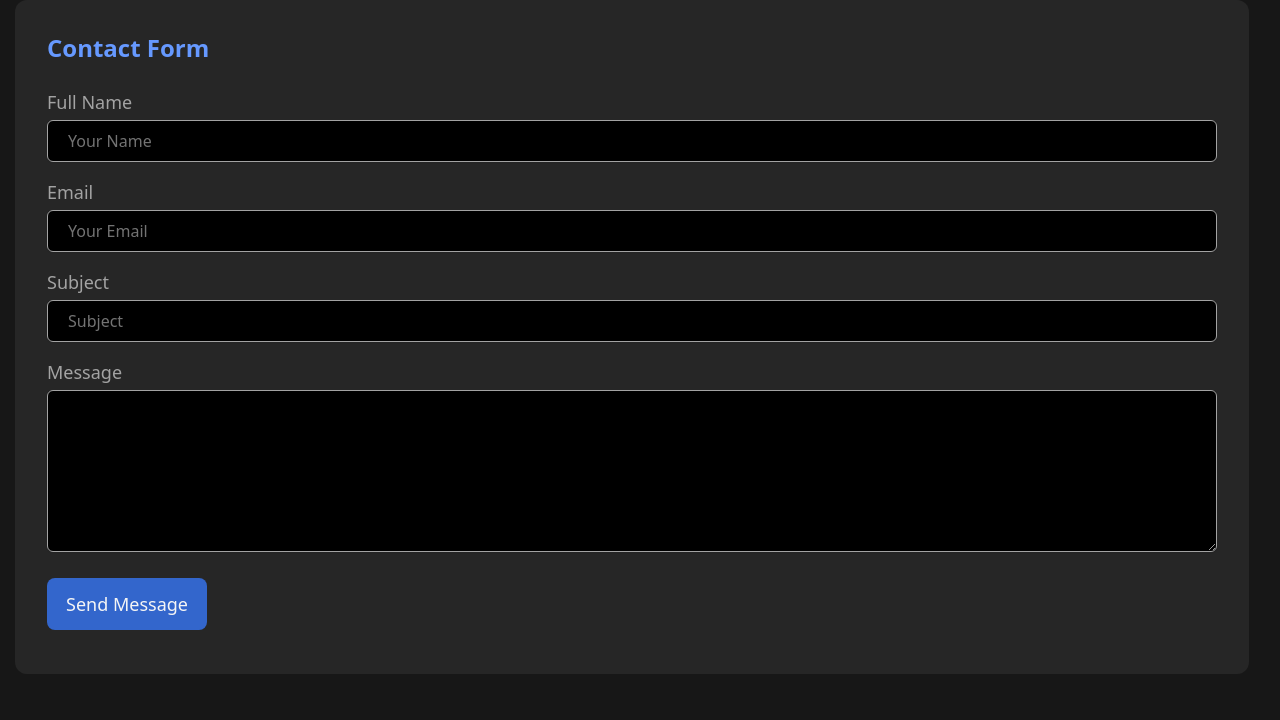
Scenario: ContactForm › shows success message and resets form on successful submission
Type "Alice" into the field labelled "Full Name" at (632, 141), box [47, 120, 1217, 162]
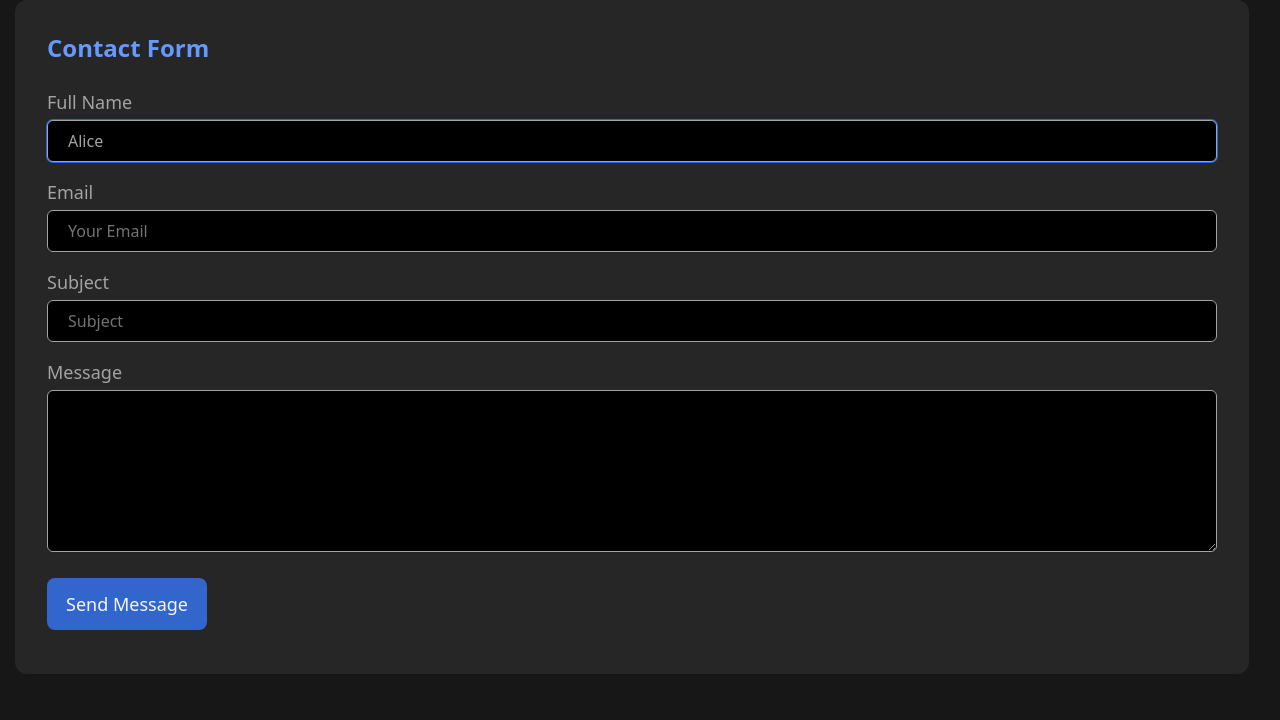
Type "alice@example.com" into the field labelled "Email" at (632, 231), box [47, 210, 1217, 252]
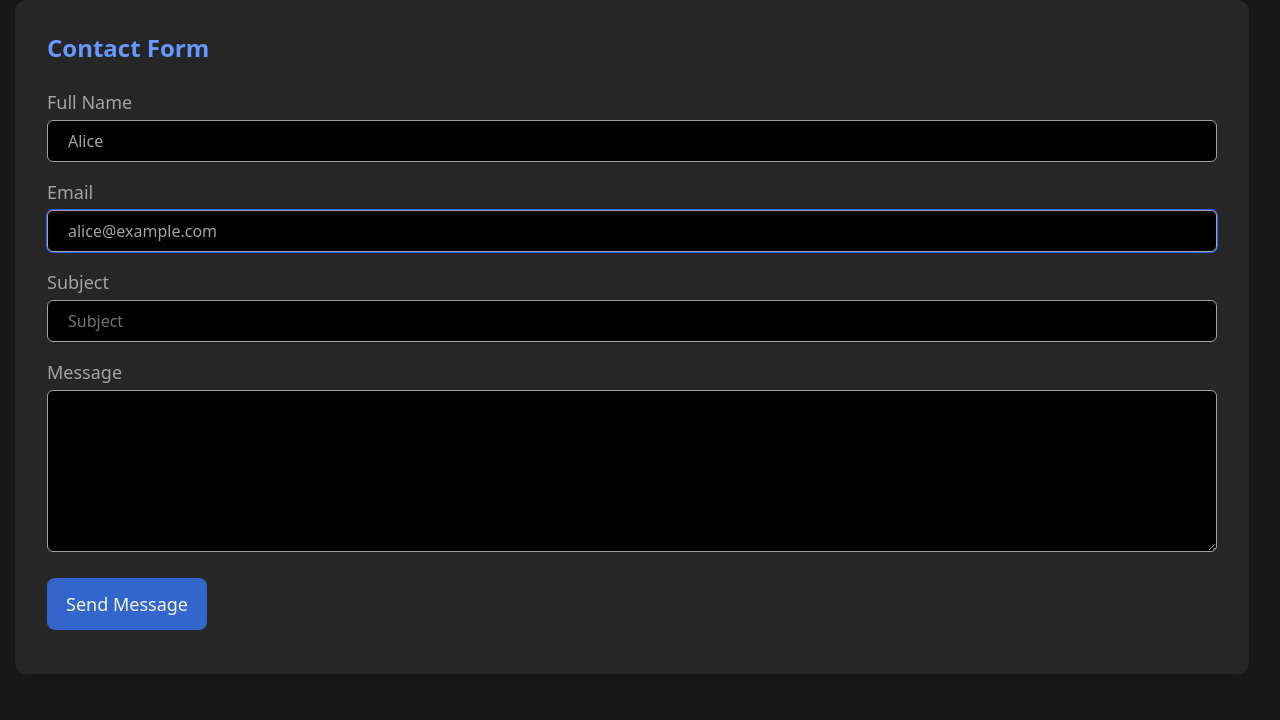
Type "Hi" into the field labelled "Subject" at (632, 321), box [47, 300, 1217, 342]
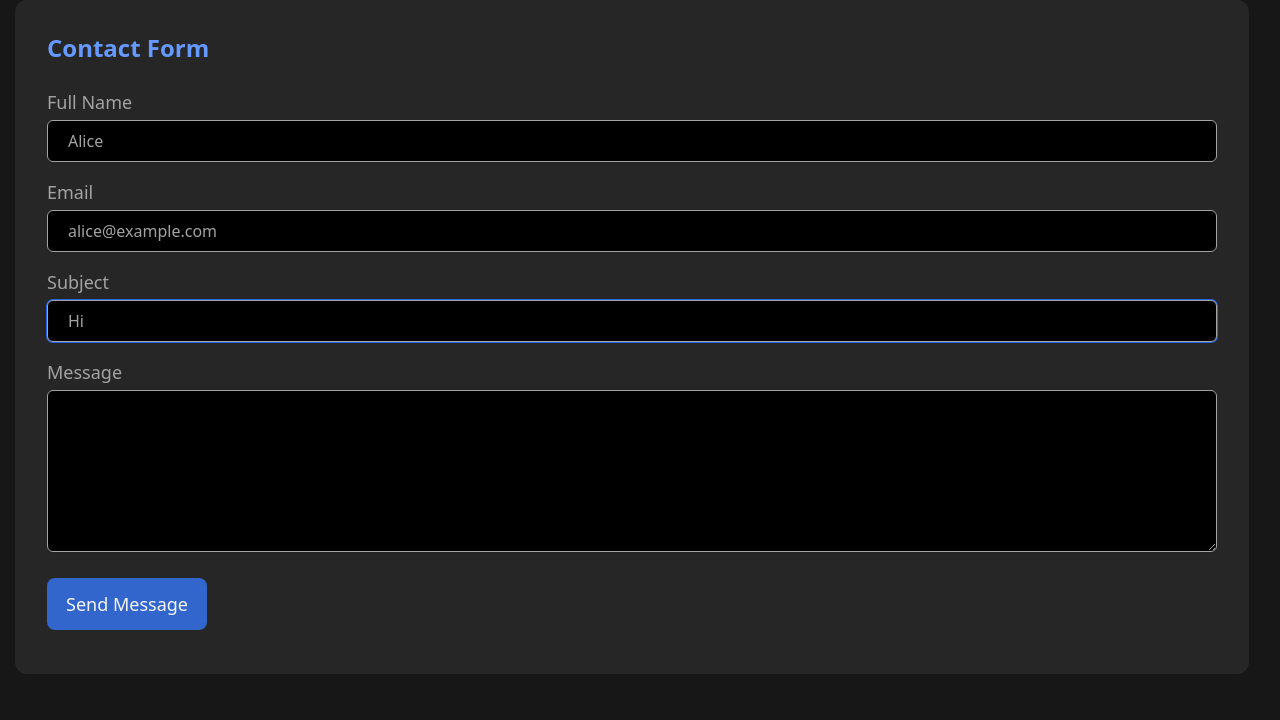
Type "Hello" into the text box labelled "Message" at (632, 471), box [47, 390, 1217, 552]
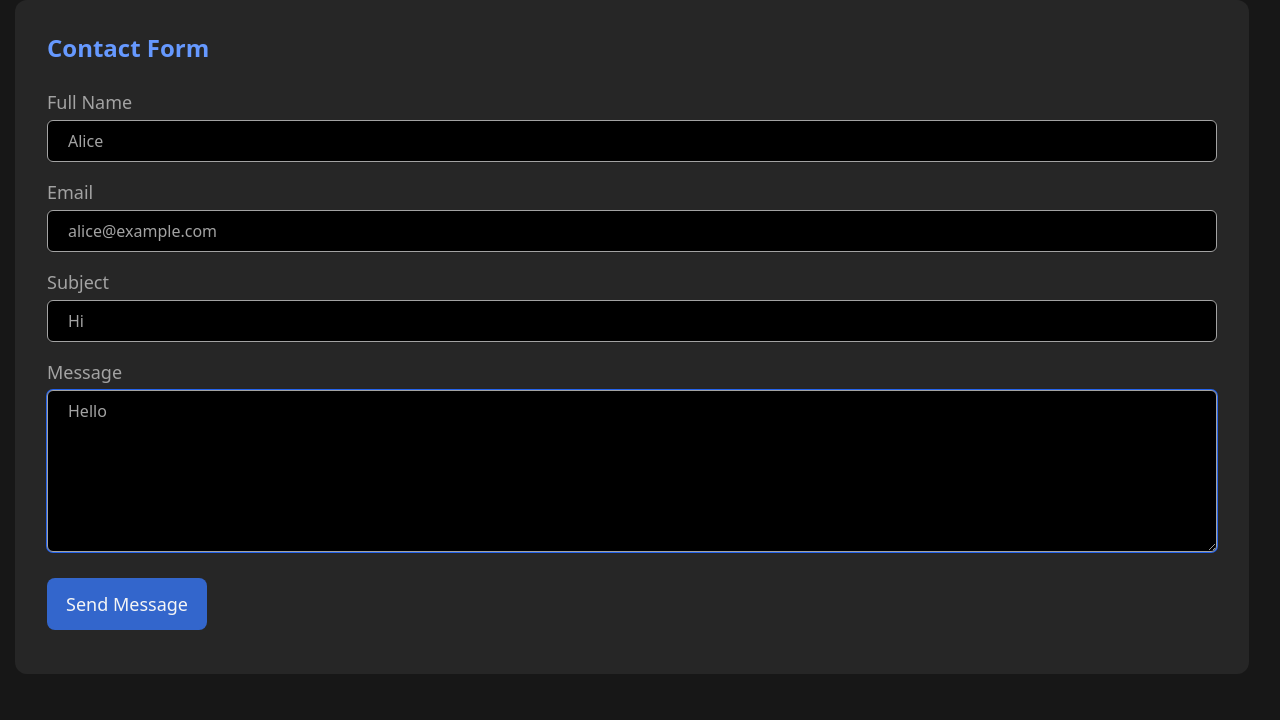
Click the button "Send Message" at (127, 604), box [47, 578, 207, 630]
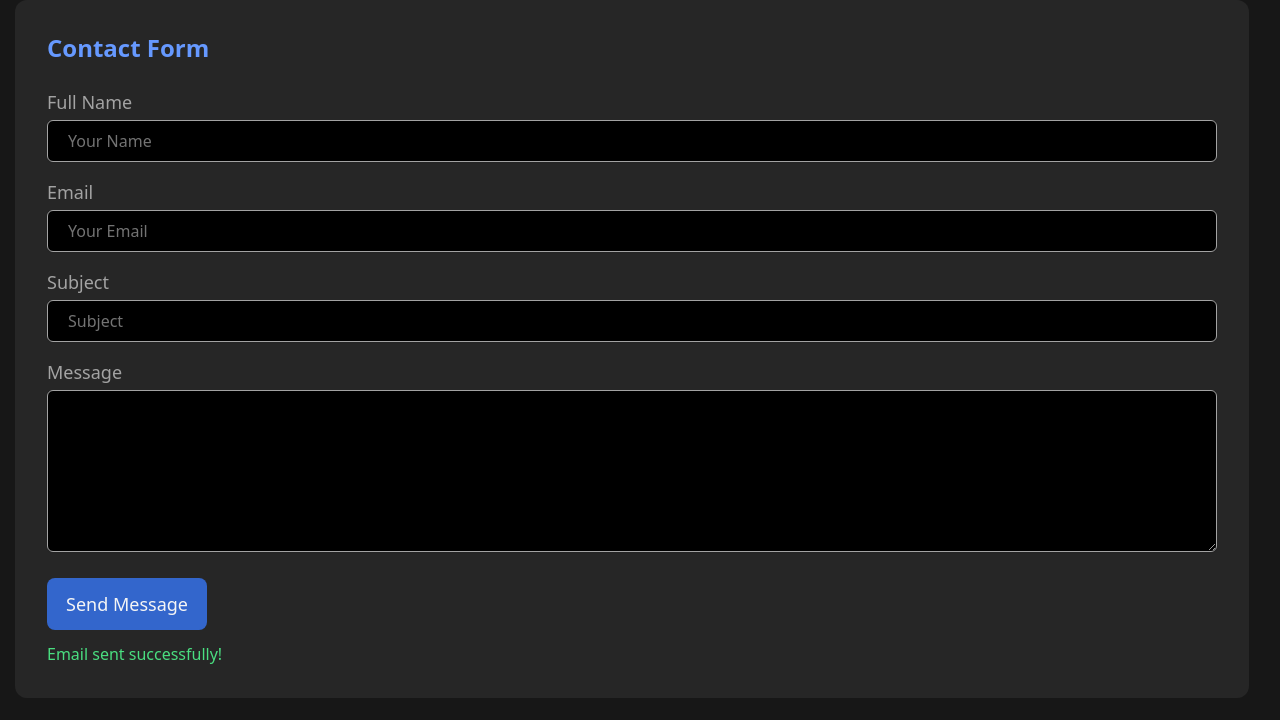
Expected: the text "Email sent successfully!" is shown, [47, 643, 222, 665]
Expected: the field labelled "Full Name" is empty, [47, 120, 1217, 162]
Expected: the field labelled "Email" is empty, [47, 210, 1217, 252]
